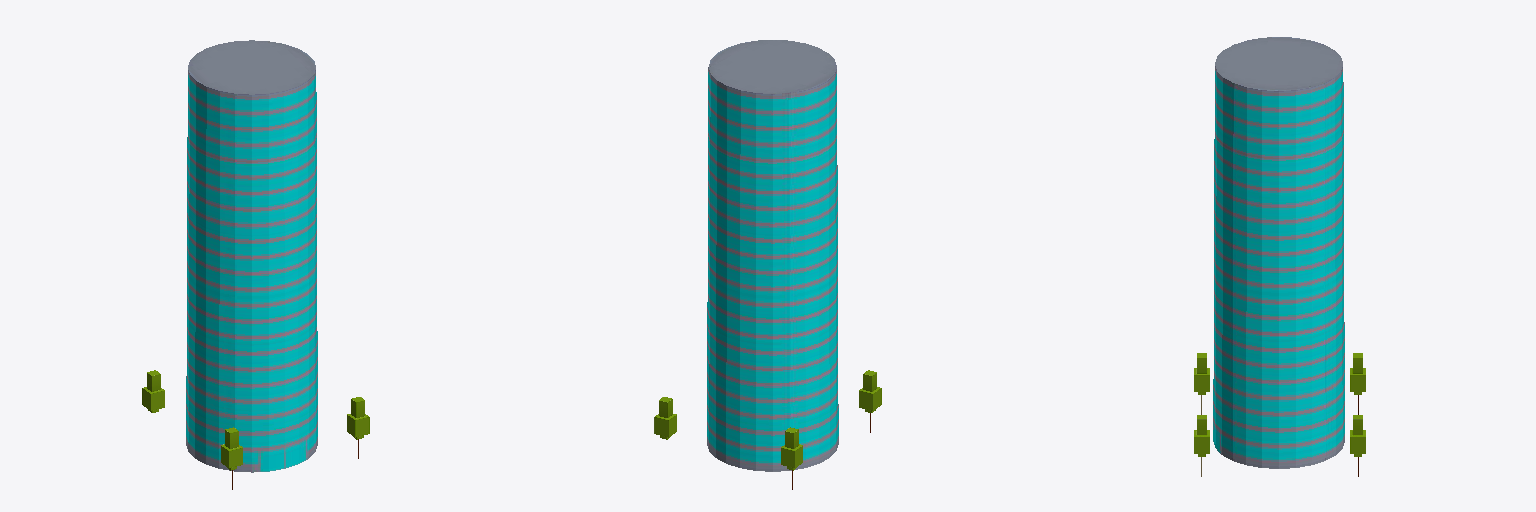
3 renders of one model, left to right at view 1: azimuth 30°, elevation 25°; view 2: azimuth 150°, elevation 25°; view 3: azimuth 270°, elevation 25°, orthographic.
Parts seen in each view (by area): view 1: business_2tower_3lvl_Mesh.168, Tree_2_3_61.053_Mesh.316, Tree_2_3_61.052_Mesh.315, Tree_2_3_61.050_Mesh.313; view 2: business_2tower_3lvl_Mesh.168, Tree_2_3_61.052_Mesh.315, Tree_2_3_61.050_Mesh.313, Tree_2_3_61.051_Mesh.314; view 3: business_2tower_3lvl_Mesh.168, Tree_2_3_61.050_Mesh.313, Tree_2_3_61.051_Mesh.314, Tree_2_3_61.052_Mesh.315, Tree_2_3_61.053_Mesh.316.
Boxes of the visible parts, box(x1,y1,x2,y2) form: business_2tower_3lvl_Mesh.168: box(186, 40, 317, 472); Tree_2_3_61.053_Mesh.316: box(347, 397, 369, 458); Tree_2_3_61.052_Mesh.315: box(221, 427, 242, 489); Tree_2_3_61.050_Mesh.313: box(142, 370, 164, 412); business_2tower_3lvl_Mesh.168: box(707, 40, 838, 471); Tree_2_3_61.052_Mesh.315: box(859, 370, 881, 432); Tree_2_3_61.050_Mesh.313: box(781, 427, 802, 489); Tree_2_3_61.051_Mesh.314: box(654, 397, 676, 439); business_2tower_3lvl_Mesh.168: box(1213, 37, 1344, 468); Tree_2_3_61.050_Mesh.313: box(1350, 353, 1365, 414); Tree_2_3_61.051_Mesh.314: box(1350, 415, 1365, 476); Tree_2_3_61.052_Mesh.315: box(1194, 353, 1209, 414); Tree_2_3_61.053_Mesh.316: box(1194, 415, 1209, 476).
Bounding box in the file's own units: 1.55 × 3.99 × 1.65.
Materials: 2 (2 with a texture image).